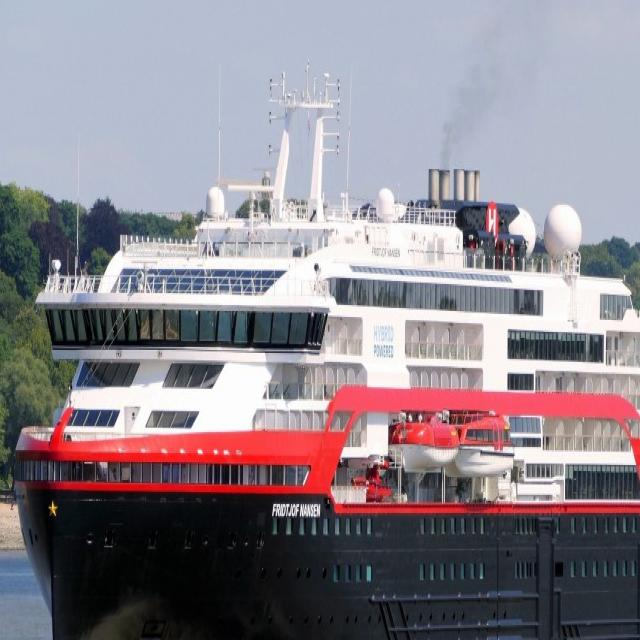cruises: (7, 58, 640, 640)
